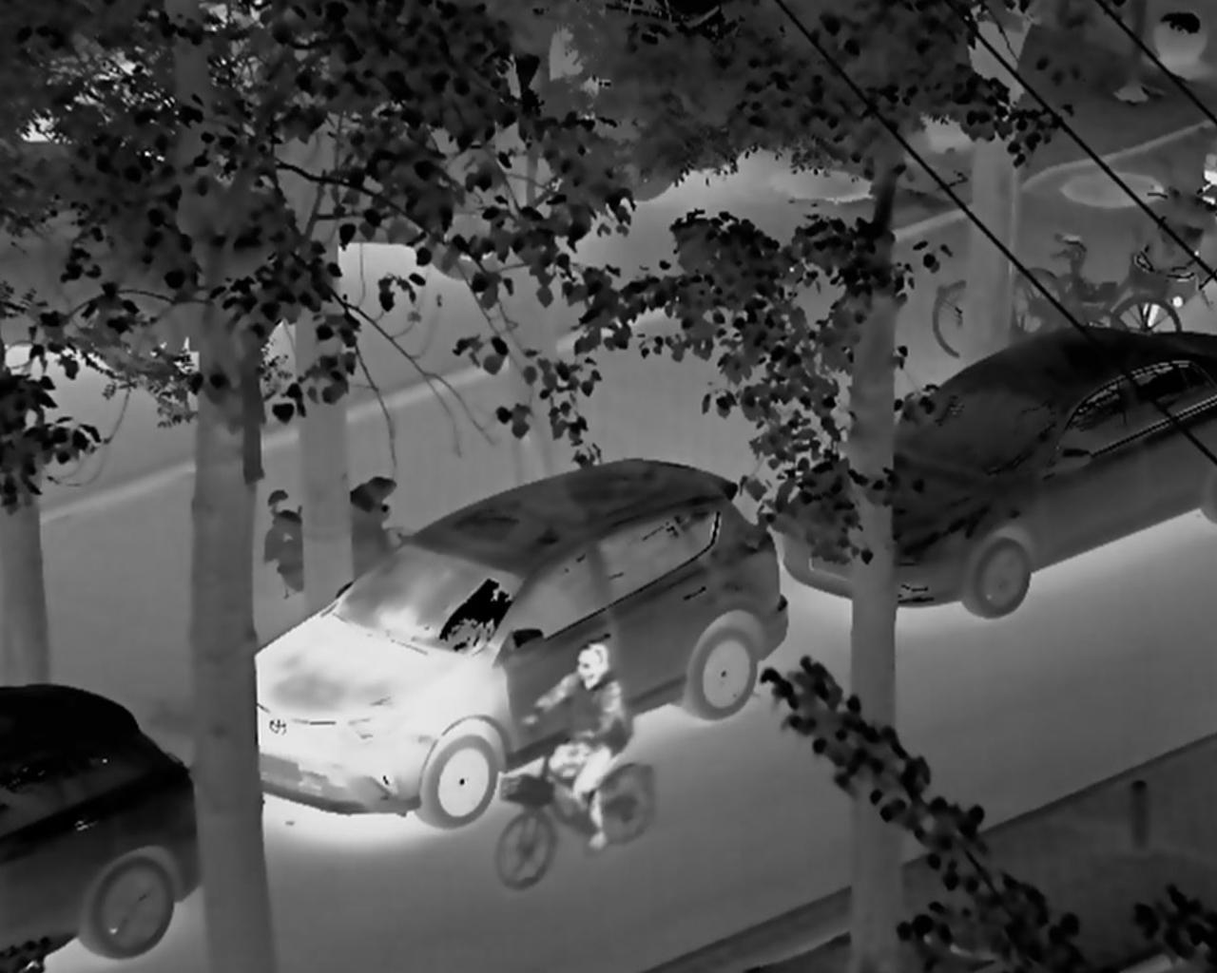person: (533, 637, 647, 855)
